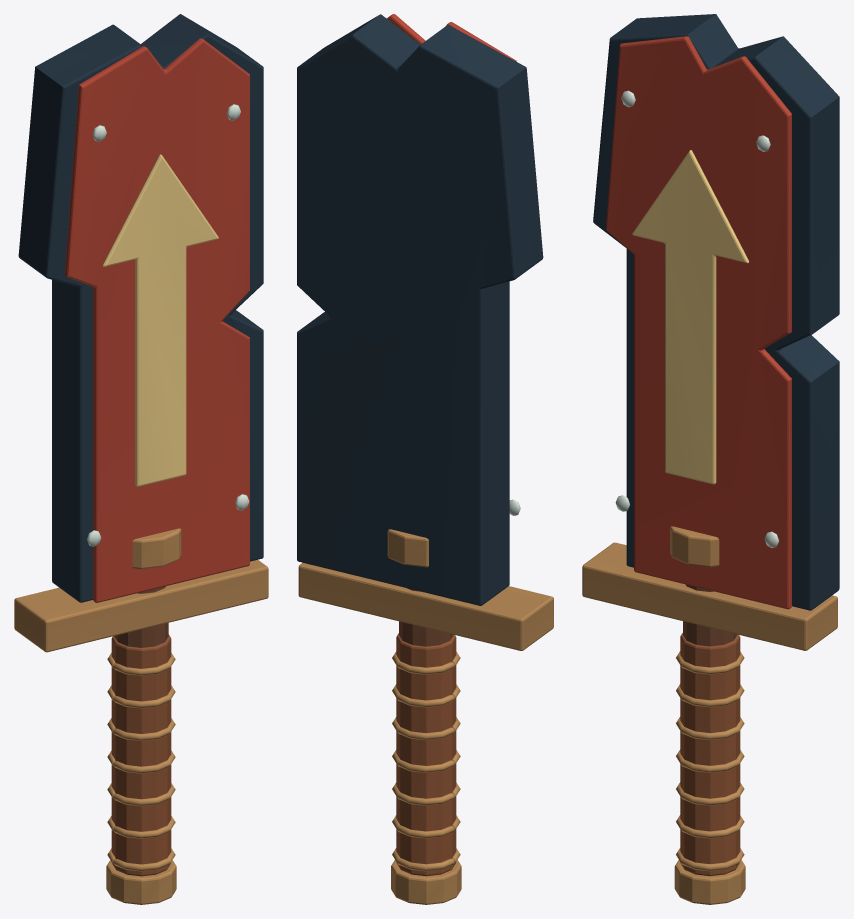
Rendered from item_000.glb.
The picture shows the model from 3 angles, left to right: view 1: azimuth 30°, elevation 25°; view 2: azimuth 150°, elevation 25°; view 3: azimuth 330°, elevation 25°; orthographic projection.
Parts seen in each view (by area): view 1: Item_000_notched_cleaver; view 2: Item_000_notched_cleaver; view 3: Item_000_notched_cleaver.
Part boxes in pixels (x1=…): Item_000_notched_cleaver: x1=14, y1=14, x2=268, y2=904; Item_000_notched_cleaver: x1=297, y1=14, x2=553, y2=904; Item_000_notched_cleaver: x1=582, y1=14, x2=839, y2=904.
Bounding box in the file's own units: 0.4 × 1.47 × 0.1345.
